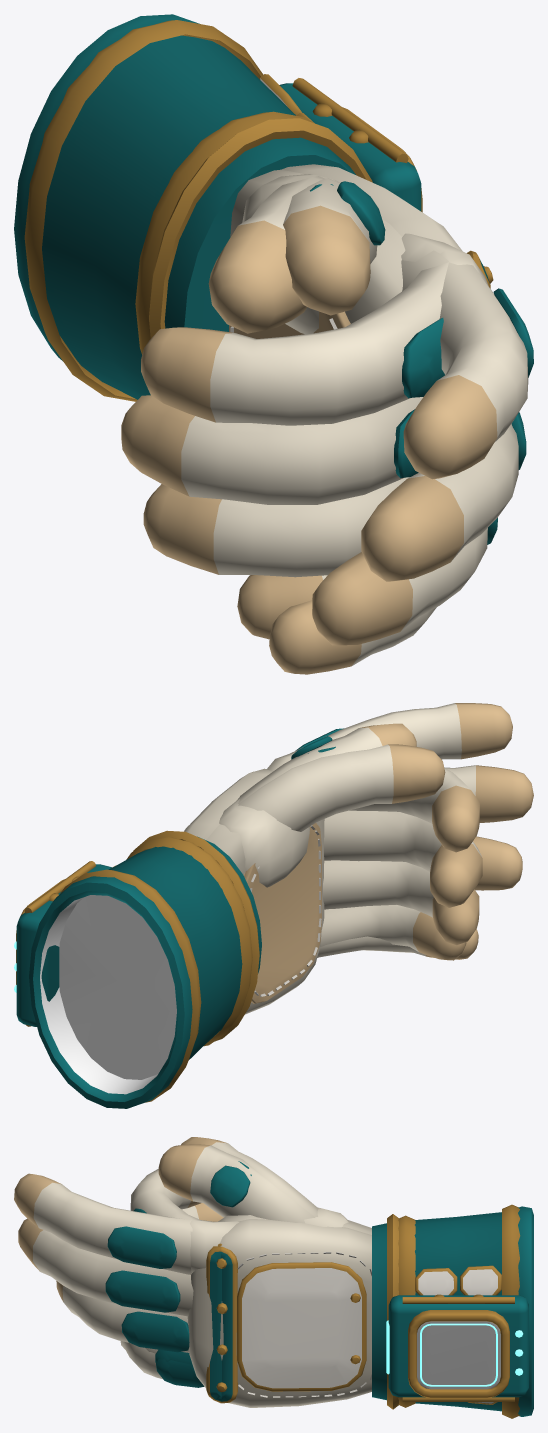
Rendered from glove_L.fbx.
3 renders of one model, top to bottom at view 1: azimuth 30°, elevation 25°; view 2: azimuth 150°, elevation 25°; view 3: azimuth 270°, elevation 25°, orthographic. The views are drawn at different scales.
Visible parts, largest first — view 1: Grip, Open; view 2: Grip, Open; view 3: Open, Grip.
Part boxes in pixels (bbox=[...]): Grip: bbox=[14, 14, 488, 639]; Open: bbox=[269, 164, 533, 674]; Grip: bbox=[14, 744, 482, 1108]; Open: bbox=[184, 703, 533, 959]; Open: bbox=[14, 1144, 371, 1407]; Grip: bbox=[130, 1137, 533, 1418].
Bounding box in the file's own units: 0.105 × 0.0916 × 0.1855.
